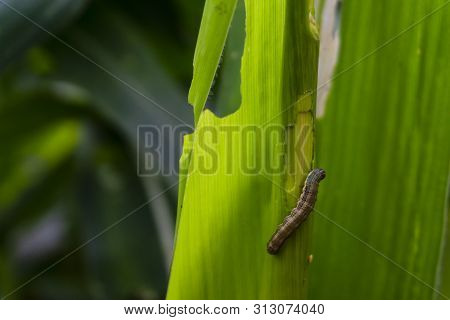Armyworm: (266, 154, 329, 262)
